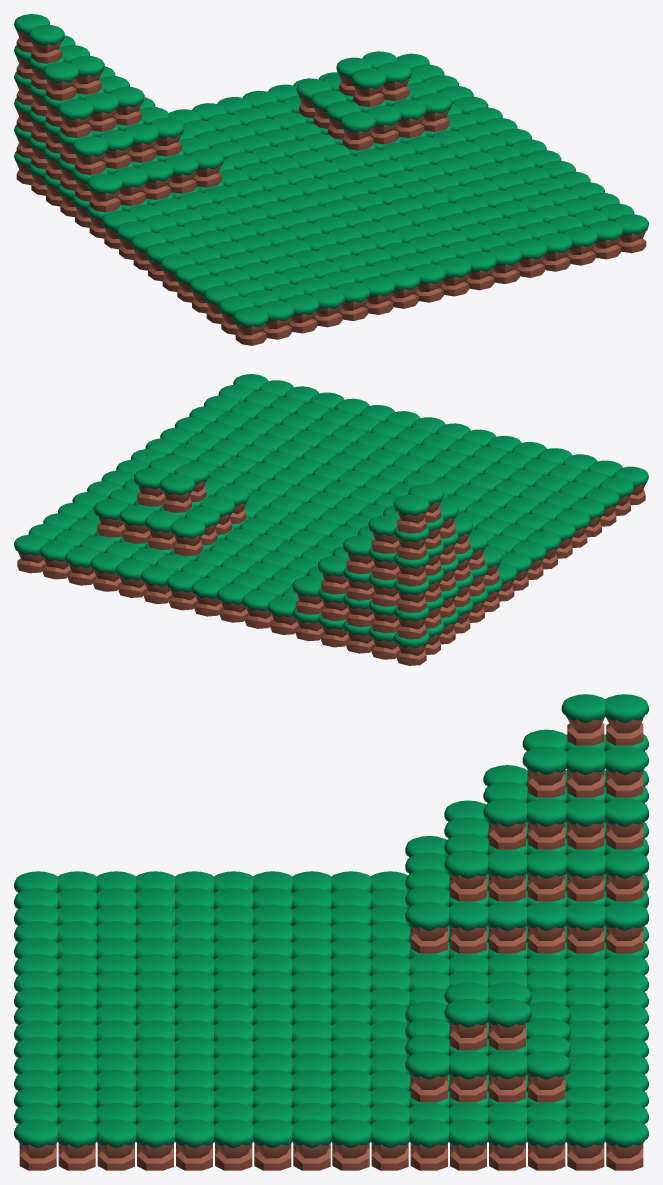
The model's file is hillBiome.fbx.
3 views of the same model, one above another, from view 1: azimuth 30°, elevation 25°; view 2: azimuth 150°, elevation 25°; view 3: azimuth 270°, elevation 25° (orthographic). The views are drawn at different scales.
Parts seen in each view (by area): view 1: Hill_2x2x2_Color2.392, Hill_2x2x2_Color2.297, Hill_2x2x2_Color2.305, Hill_2x2x2_Color2.362, Hill_2x2x2_Color2.216, Hill_2x2x2_Color2.383, Hill_2x2x2_Color2.361, Hill_2x2x2_Color2.390, Hill_2x2x2_Color2.366, Hill_2x2x2_Color2.342, Hill_2x2x2_Color2.307, Hill_2x2x2_Color2.371 (+39 smaller); view 2: Hill_2x2x2_Color2.391, Hill_2x2x2_Color2.304, Hill_2x2x2_Color2.294, Hill_2x2x2_Color2.306, Hill_2x2x2_Color2.300, Hill_2x2x2_Color2.044, Hill_2x2x2_Color2.096, Hill_2x2x2_Color2.053, Hill_2x2x2_Color2.065, Hill_2x2x2_Color2.056, Hill_2x2x2_Color2.290, Hill_2x2x2_Color2.047 (+44 smaller); view 3: Hill_2x2x2_Color2.385, Hill_2x2x2_Color2.392, Hill_2x2x2_Color2.303, Hill_2x2x2_Color2.308, Hill_2x2x2_Color2.044, Hill_2x2x2_Color2.366, Hill_2x2x2_Color2.338, Hill_2x2x2_Color2.378, Hill_2x2x2_Color2.300, Hill_2x2x2_Color2.368, Hill_2x2x2_Color2.391, Hill_2x2x2_Color2.189 (+212 smaller).
Boxes of the visible parts, x1,y1,x2,y2 form: Hill_2x2x2_Color2.392: [28, 24, 64, 63]; Hill_2x2x2_Color2.297: [340, 111, 375, 150]; Hill_2x2x2_Color2.305: [351, 68, 386, 107]; Hill_2x2x2_Color2.362: [87, 173, 122, 212]; Hill_2x2x2_Color2.216: [233, 306, 268, 345]; Hill_2x2x2_Color2.383: [58, 99, 93, 137]; Hill_2x2x2_Color2.361: [72, 136, 108, 175]; Hill_2x2x2_Color2.390: [43, 62, 78, 100]; Hill_2x2x2_Color2.366: [189, 148, 224, 187]; Hill_2x2x2_Color2.342: [149, 117, 184, 156]; Hill_2x2x2_Color2.307: [377, 62, 412, 101]; Hill_2x2x2_Color2.371: [109, 86, 144, 125]; Hill_2x2x2_Color2.391: [393, 495, 429, 533]; Hill_2x2x2_Color2.304: [159, 474, 195, 512]; Hill_2x2x2_Color2.294: [170, 517, 205, 556]; Hill_2x2x2_Color2.306: [133, 468, 168, 506]; Hill_2x2x2_Color2.300: [94, 499, 128, 537]; Hill_2x2x2_Color2.044: [14, 534, 48, 573]; Hill_2x2x2_Color2.096: [242, 590, 276, 628]; Hill_2x2x2_Color2.053: [90, 553, 124, 591]; Hill_2x2x2_Color2.065: [191, 577, 226, 616]; Hill_2x2x2_Color2.056: [115, 559, 150, 597]; Hill_2x2x2_Color2.290: [119, 505, 153, 543]; Hill_2x2x2_Color2.047: [39, 540, 74, 579]; Hill_2x2x2_Color2.385: [522, 746, 566, 797]; Hill_2x2x2_Color2.392: [561, 694, 605, 745]; Hill_2x2x2_Color2.303: [405, 1050, 448, 1102]; Hill_2x2x2_Color2.308: [605, 902, 648, 953]; Hill_2x2x2_Color2.044: [605, 1119, 648, 1170]; Hill_2x2x2_Color2.366: [405, 902, 448, 953]; Hill_2x2x2_Color2.338: [605, 850, 648, 901]; Hill_2x2x2_Color2.378: [605, 746, 648, 797]; Hill_2x2x2_Color2.300: [527, 1050, 570, 1102]; Hill_2x2x2_Color2.368: [605, 798, 648, 849]; Hill_2x2x2_Color2.391: [605, 694, 648, 745]; Hill_2x2x2_Color2.189: [14, 1119, 57, 1170].
Bounding box in the file's own units: 3250 × 1200 × 3250.
